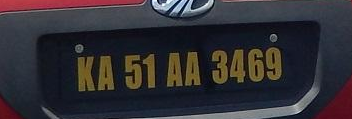1: (142, 52, 158, 90)
3: (209, 48, 229, 86)
4: (228, 48, 246, 84)
5: (123, 53, 143, 91)
6: (246, 48, 266, 83)
9: (264, 46, 283, 82)
A: (96, 54, 116, 92), (183, 50, 202, 88), (165, 51, 184, 88)
K: (76, 55, 96, 93)
